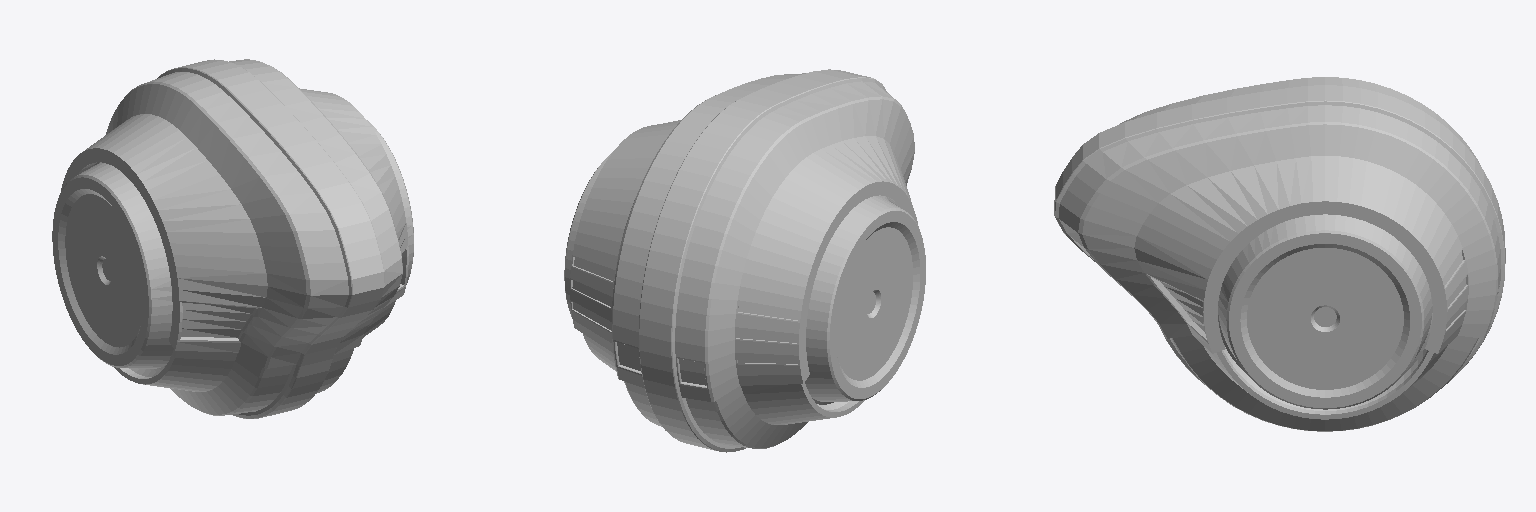
The model's file is Robot_Rockie.obj.
The picture shows the model from 3 angles: view 1: azimuth 30°, elevation 25°; view 2: azimuth 150°, elevation 25°; view 3: azimuth 270°, elevation 25°; orthographic projection.
Visible parts, largest first — view 1: Robot_Rockie_Cylinder; view 2: Robot_Rockie_Cylinder; view 3: Robot_Rockie_Cylinder.
Boxes of the visible parts, x1,y1,x2,y2 form: Robot_Rockie_Cylinder: [52, 59, 413, 418]; Robot_Rockie_Cylinder: [564, 69, 925, 452]; Robot_Rockie_Cylinder: [1054, 77, 1505, 431].
Bounding box in the file's own units: 0.8779 × 1.03 × 1.29.